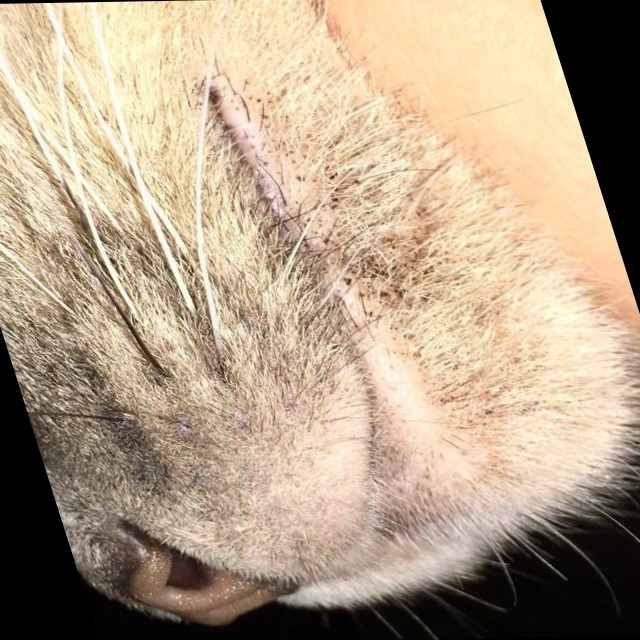acne: (242, 68, 465, 326)
